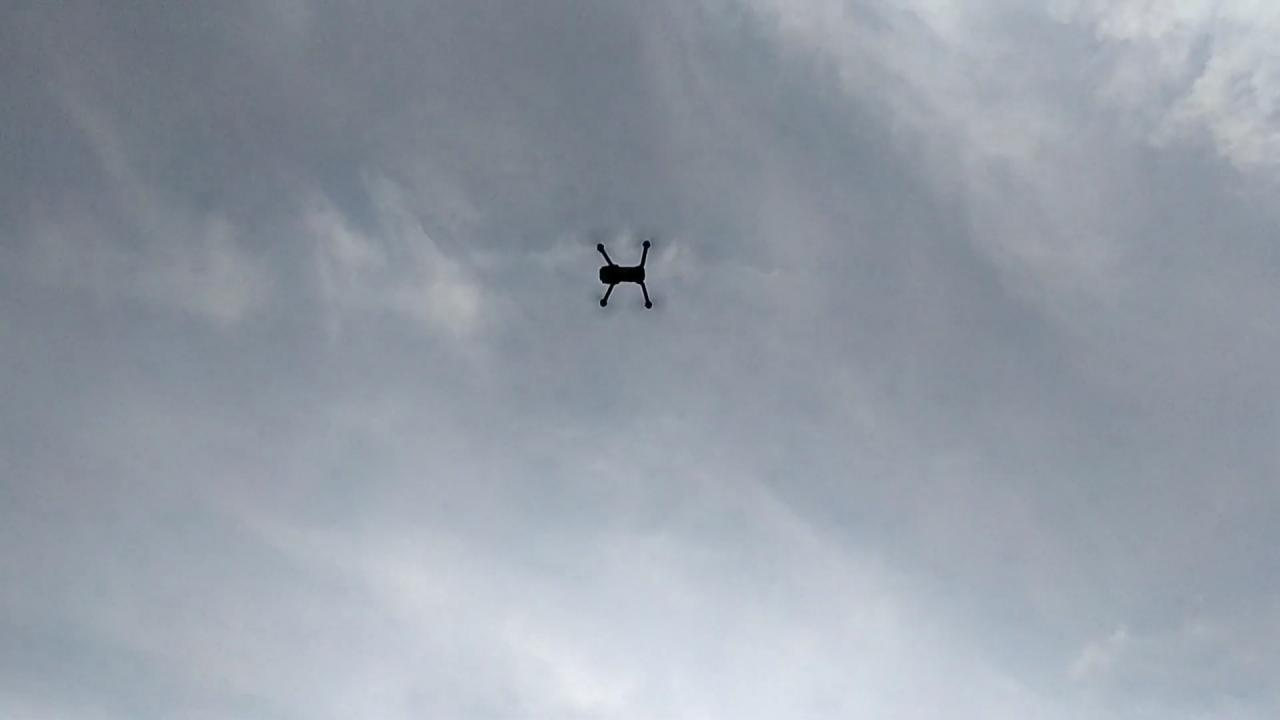Drone: (583, 227, 668, 322)
